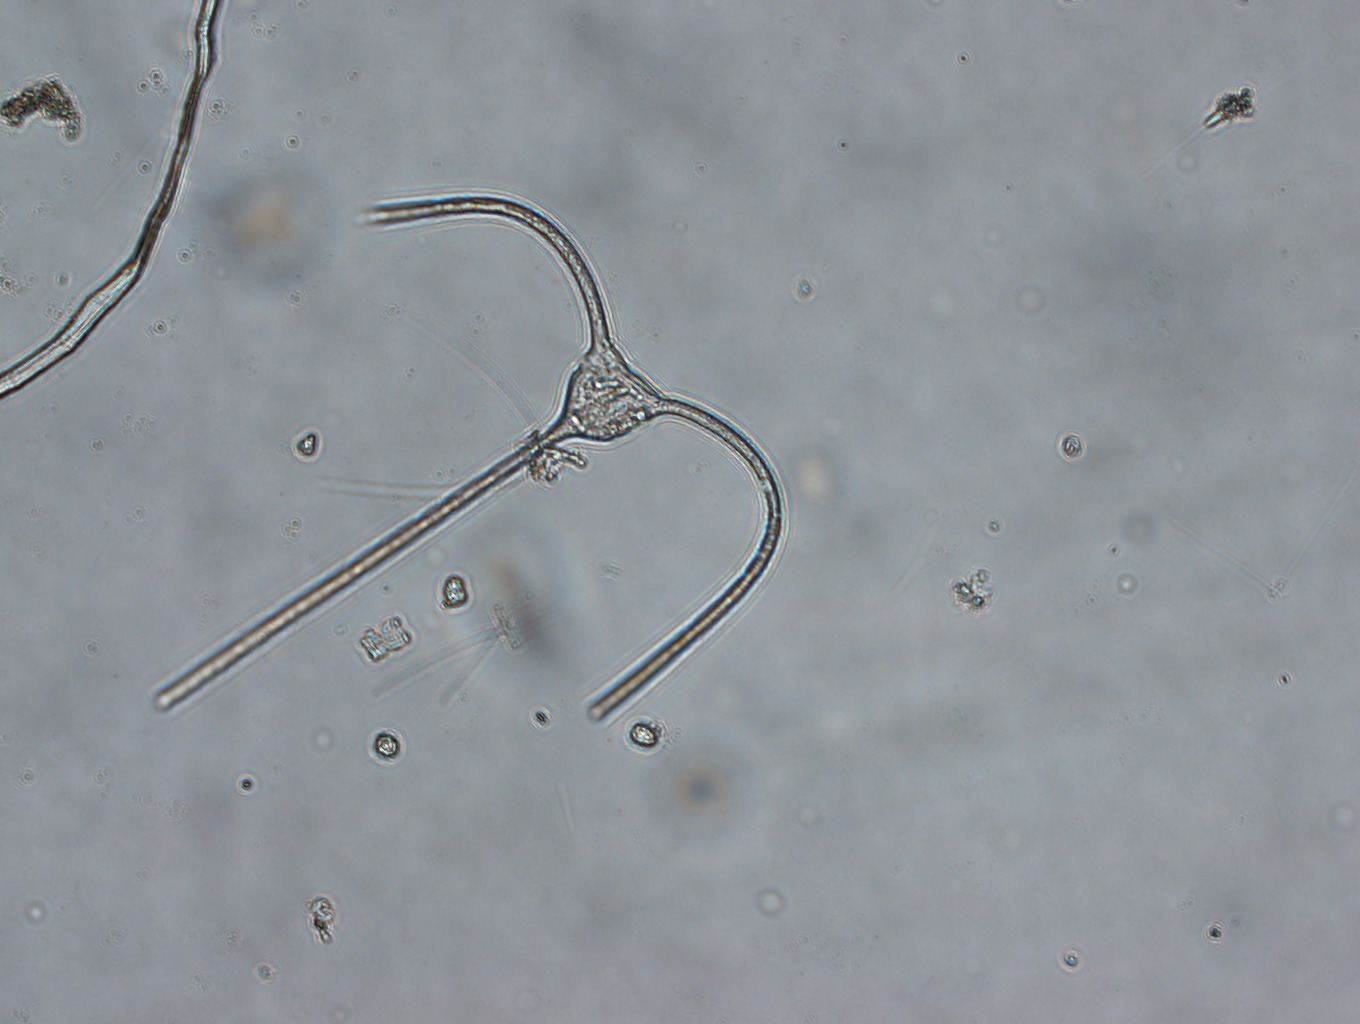ceratium trichoceros: (141, 191, 783, 723)
